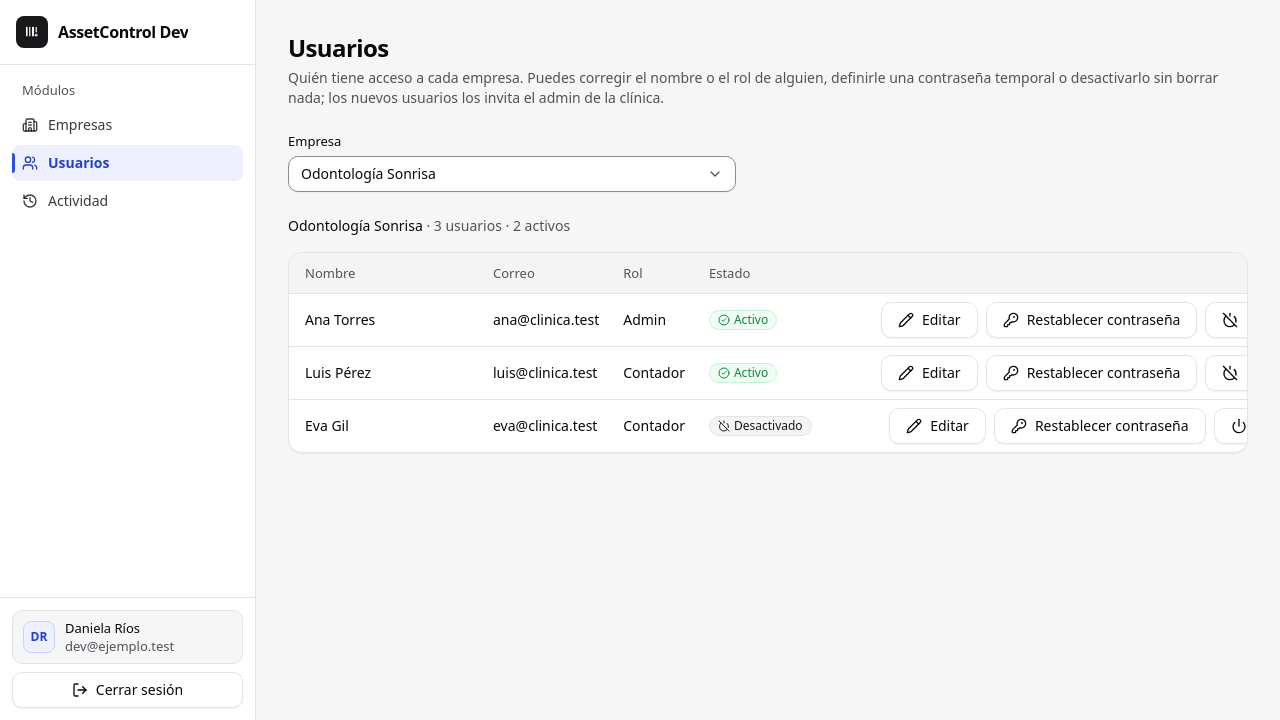
abrir Editar usuario (CU-13; R52) › muestra el correo solo de lectura, el nombre y el rol; «Guardar» empieza deshabilitado
The image size is (1280, 720).
Click the button with aria-label "Editar a Luis Pérez".
click(929, 372)  # box [881, 354, 978, 390]
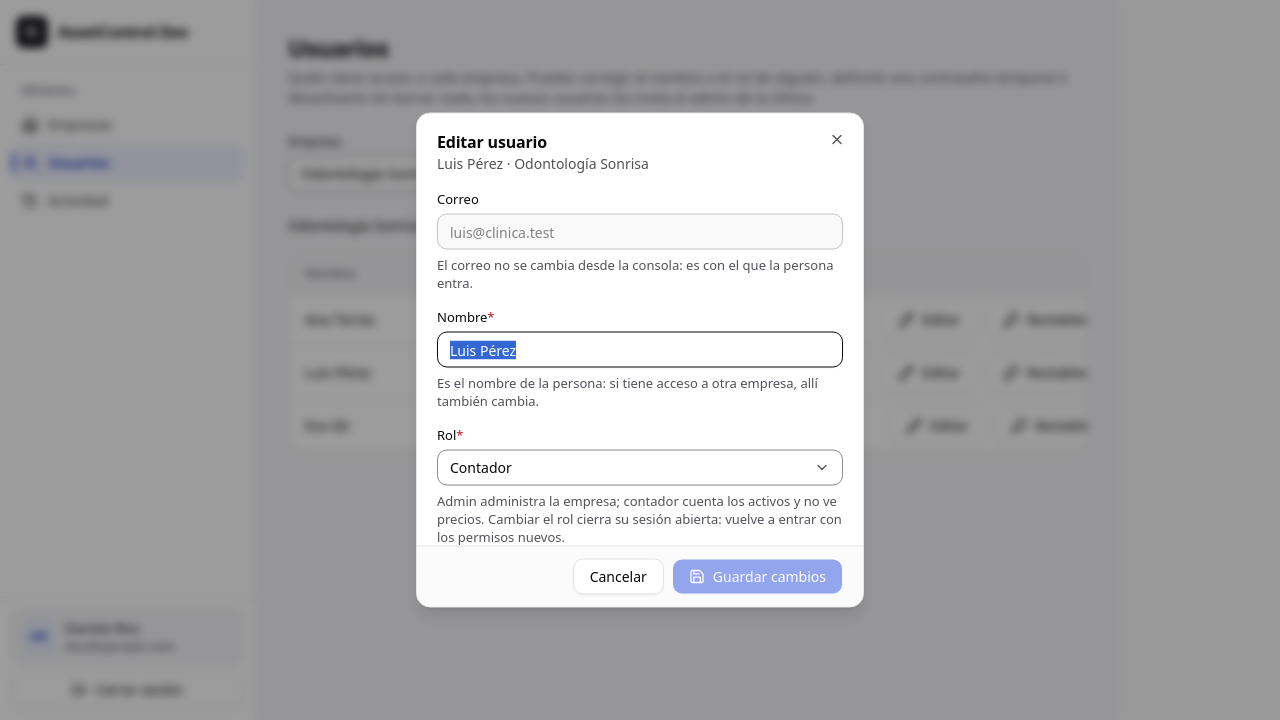
Expected: the heading "Editar usuario" is shown, [437, 130, 547, 152]
Expected: the dialog shows "Odontología Sonrisa", [437, 154, 649, 172]
Expected: the field labelled "Correo" holds "luis@clinica.test", [437, 214, 843, 250]
